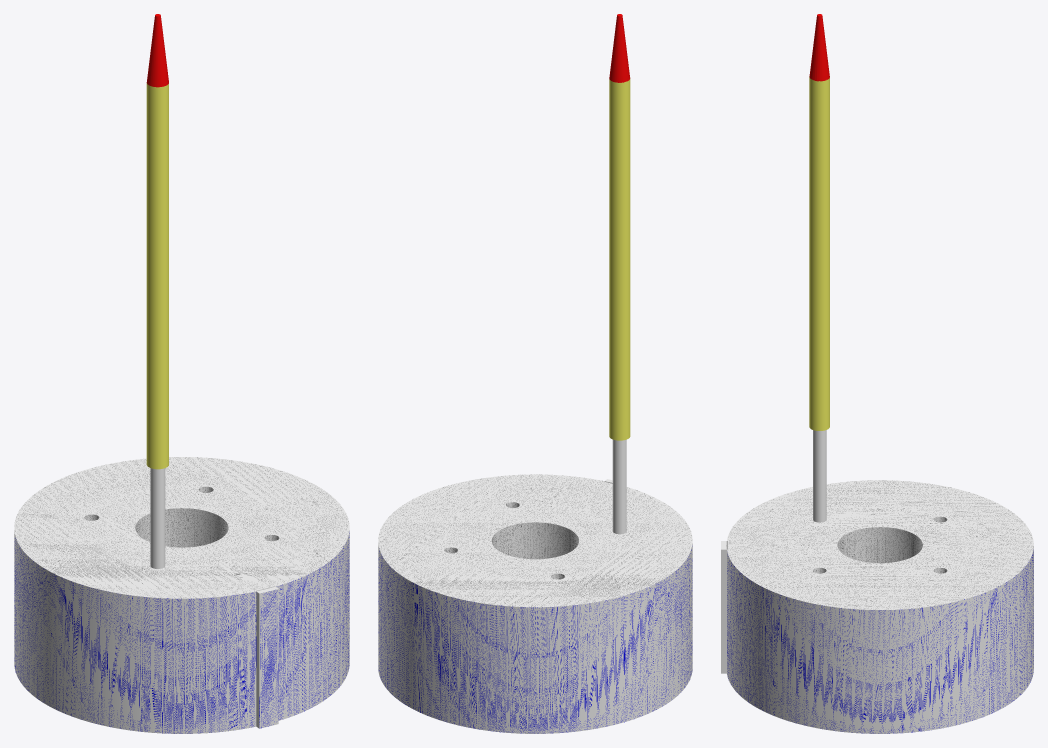
The model's file is jr3-stabilo.dae.
The picture shows the model from 3 angles, left to right: view 1: azimuth 30°, elevation 25°; view 2: azimuth 150°, elevation 25°; view 3: azimuth 270°, elevation 25°; orthographic projection. The views are drawn at different scales.
Parts seen in each view (by area): view 1: SketchUp (×9); view 2: SketchUp (×7); view 3: SketchUp (×8).
Boxes of the visible parts, x1,y1,x2,y2 form: SketchUp (×9): (14, 14, 349, 733); SketchUp (×7): (378, 14, 692, 733); SketchUp (×8): (721, 14, 1033, 733).
Bounding box in the file's own units: 3.54 × 3.6 × 7.99.
